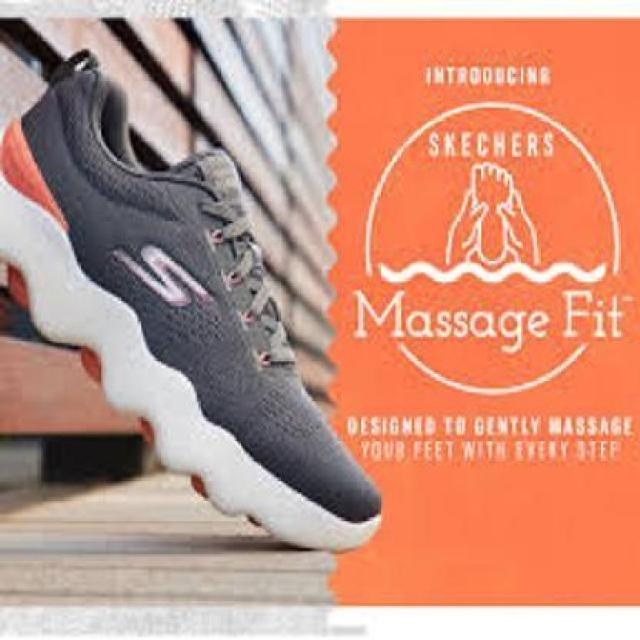not trash: (2, 51, 382, 564)
